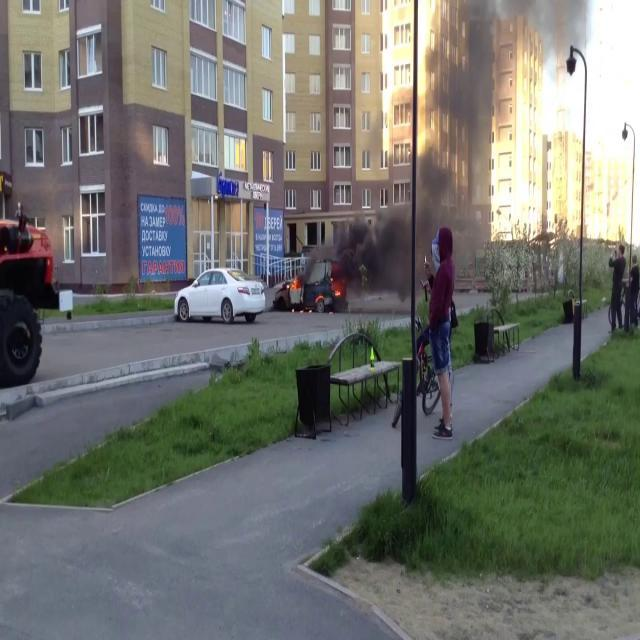Smoke: (328, 127, 478, 300), (418, 1, 502, 234)
